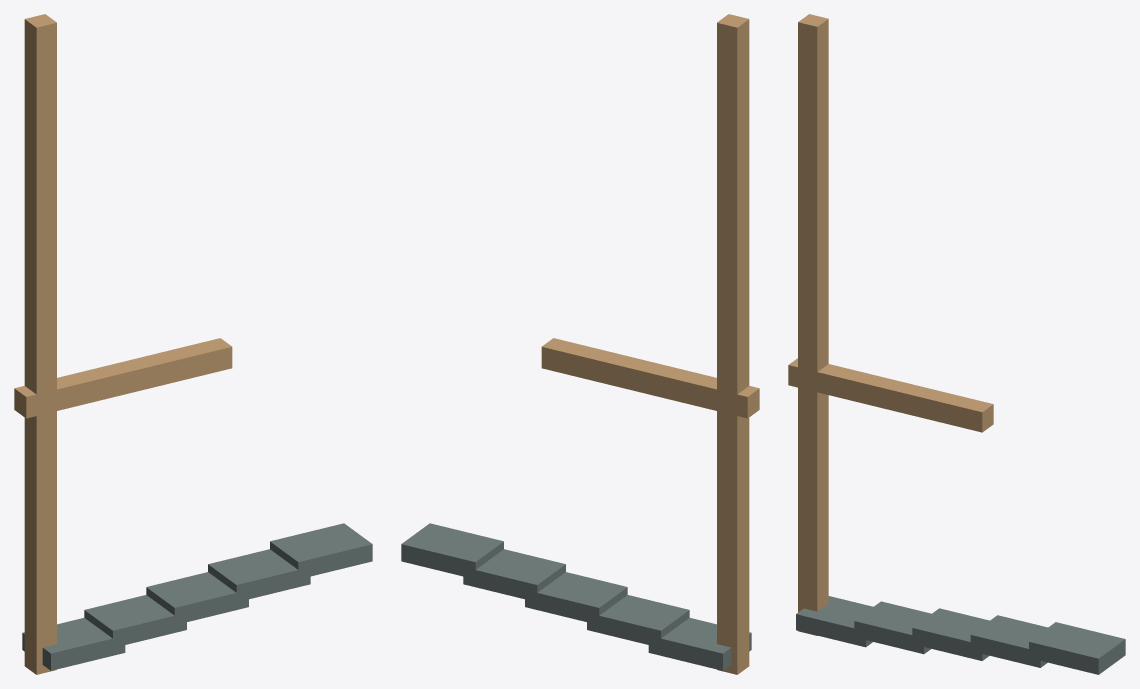
Rendered from cozy-farm-and-homestead-scythe-b06035d5__19403.glb.
3 views of the same model, side by side, from view 1: azimuth 30°, elevation 25°; view 2: azimuth 150°, elevation 25°; view 3: azimuth 330°, elevation 25° (orthographic). The views are drawn at different scales.
Parts seen in each view (by area): view 1: scythe; view 2: scythe; view 3: scythe.
Part boxes in pixels (x1,y1,x2,y2): scythe: [14, 14, 372, 674]; scythe: [401, 14, 759, 674]; scythe: [788, 14, 1125, 674].
Size of the model in its own units: 0.82 by 1.5 by 0.12.
